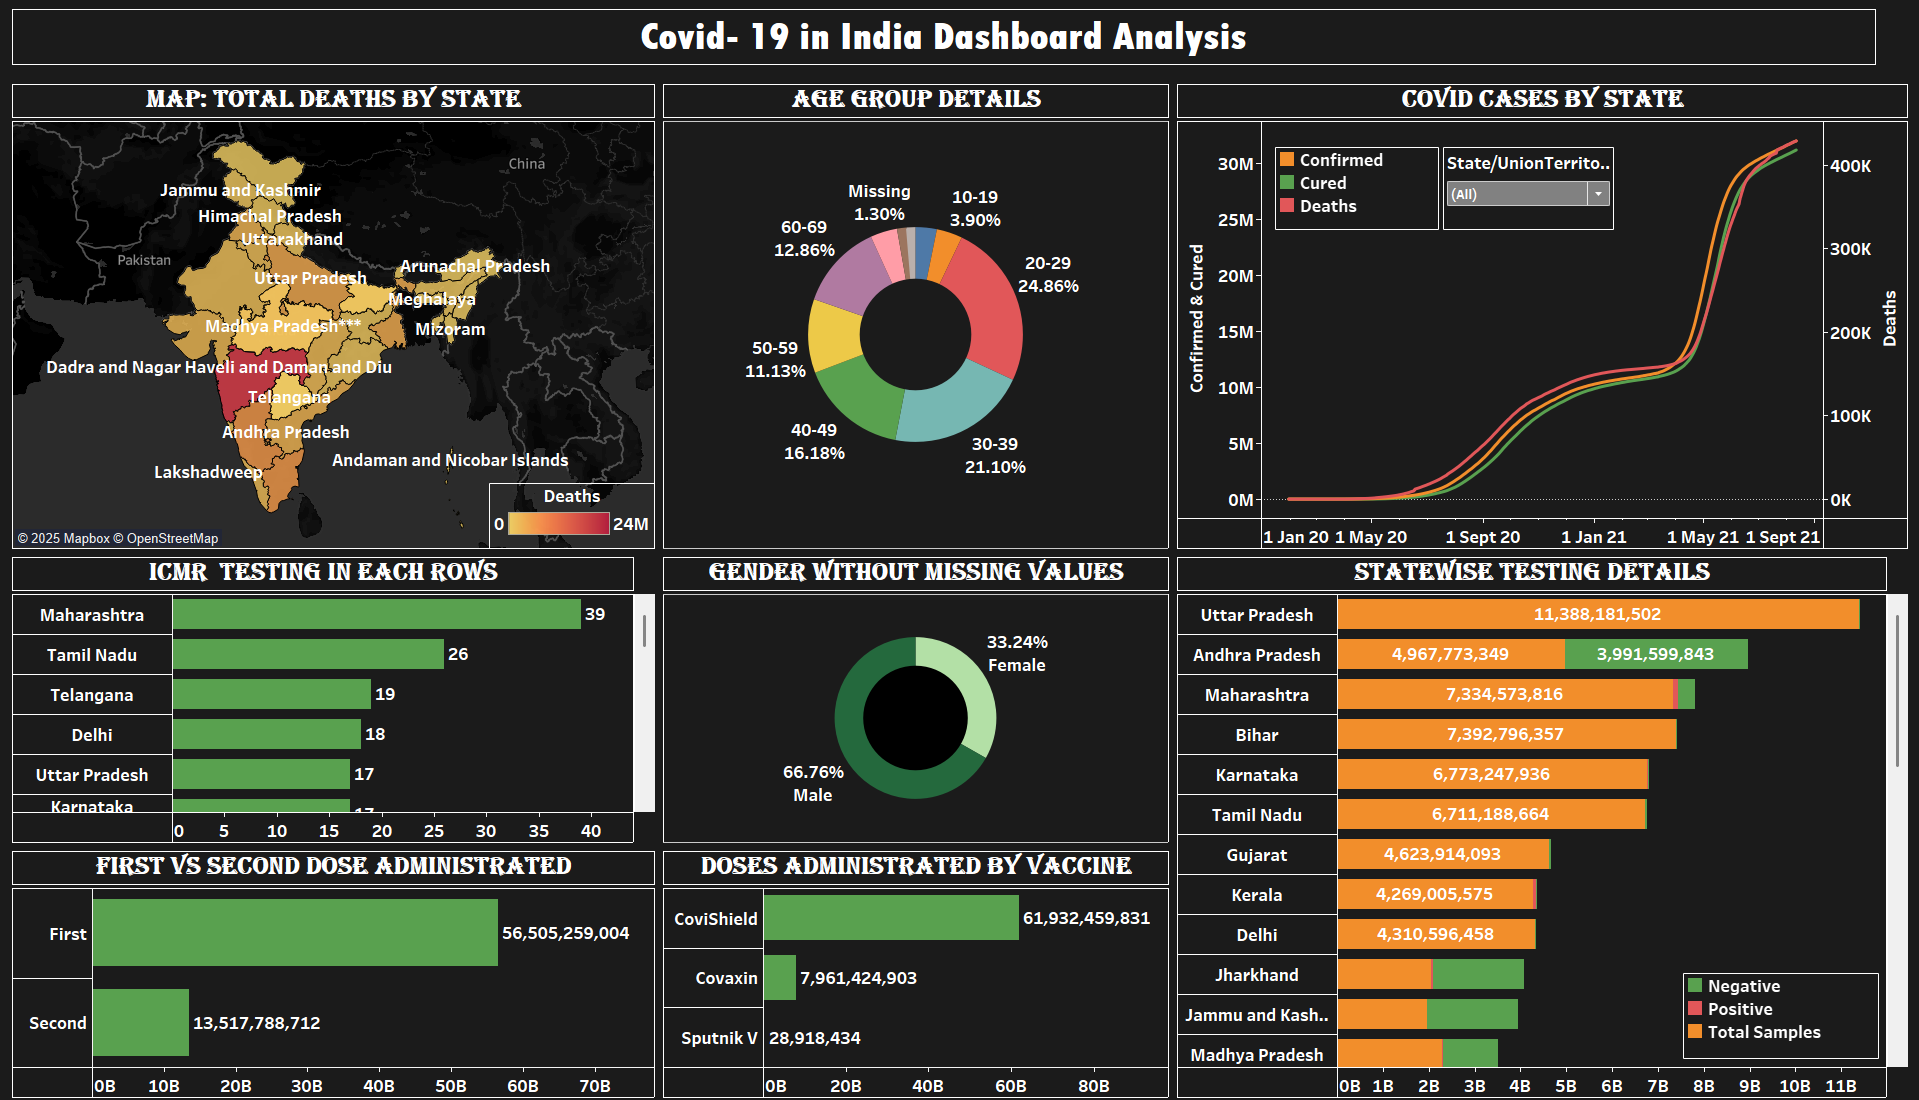

The page's visual inventory and layout, read from the dashboard file:
{"tool":"tableau","page":{"name":"Dashboard 1","canvas":[1000,1000],"units":"permille","ordinal":0},"visuals":[{"type":"worksheet","title":"title","mark":"Automatic","box":[4.2,8.2,991.5,67.3]},{"type":"worksheet","title":"Map: total deaths by state","mark":"Automatic","box":[4.2,75.4,338.9,424.1]},{"type":"worksheet","title":"age group details","mark":"Pie","rows":["Calculation_1022035647124914177","Calculation_1022035647124914177"],"box":[343.1,75.4,267.9,424.1]},{"type":"worksheet","title":"Covid cases by state","mark":"Automatic","rows":["Deaths"],"cols":["Date"],"box":[611.1,75.4,384.7,424.1]},{"type":"legend","title":"Covid cases by state","param":"[federated.0b002rv0ybuasa1fry0r91obtgdd].[:Measure Names]","box":[664.3,134.6,85.6,74.4]},{"type":"filter","title":"Covid cases by state","param":"[federated.0b002rv0ybuasa1fry0r91obtgdd].[none:State/UnionTerritory:nk]","box":[751.6,134.6,89.2,74.4]},{"type":"legend","title":"Map: total deaths by state","param":"[federated.0b002rv0ybuasa1fry0r91obtgdd].[sum:Deaths:qk]","box":[254.8,436.3,86.3,59.1]},{"type":"worksheet","title":"ICMR  testing in each rows","mark":"Automatic","rows":["state"],"cols":["lab"],"box":[4.2,499.5,338.9,263.3]},{"type":"worksheet","title":"gender without missing values","mark":"Pie","rows":["Calculation_1022035647127629827","Calculation_1022035647127629827"],"box":[343.1,499.5,267.9,263.3]},{"type":"worksheet","title":"statewise testing details","mark":"Automatic","rows":["State"],"box":[611.1,499.5,384.7,492.4]},{"type":"worksheet","title":"first vs second dose administrated","mark":"Automatic","box":[4.2,762.7,338.9,229.1]},{"type":"worksheet","title":"doses administrated by vaccine","mark":"Automatic","box":[343.1,762.7,267.9,229.1]},{"type":"legend","title":"statewise testing details","param":"[federated.1s86i7d0h394cw17k7uxz14vq682].[:Measure Names]","box":[876.6,876.7,102,77.5]}]}

Visuals, with their boxes on the dashboard's canvas, which has no fixed pixel size, in thousandths of its width and height (x1, y1, x2, y2). These are canvas units, not pixel positions in the 1919x1100 screenshot, which may show the page scaled, cropped or inside an application window:
"title" worksheet: locate(4, 8, 996, 76)
"Map: total deaths by state" worksheet: locate(4, 75, 343, 500)
"age group details" worksheet (Pie marks): locate(343, 75, 611, 500)
"Covid cases by state" worksheet: locate(611, 75, 996, 500)
"Covid cases by state" legend: locate(664, 135, 750, 209)
"Covid cases by state" filter: locate(752, 135, 841, 209)
"Map: total deaths by state" legend: locate(255, 436, 341, 495)
"ICMR  testing in each rows" worksheet: locate(4, 500, 343, 763)
"gender without missing values" worksheet (Pie marks): locate(343, 500, 611, 763)
"statewise testing details" worksheet: locate(611, 500, 996, 992)
"first vs second dose administrated" worksheet: locate(4, 763, 343, 992)
"doses administrated by vaccine" worksheet: locate(343, 763, 611, 992)
"statewise testing details" legend: locate(877, 877, 979, 954)
